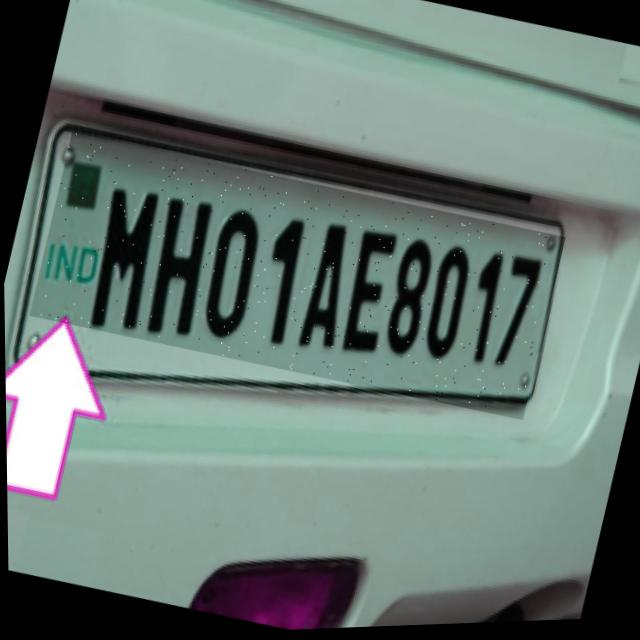license_plate: (26, 119, 566, 438)
